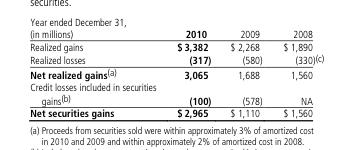table: (29, 28, 323, 118)
table column: (29, 28, 165, 118), (165, 28, 220, 118), (220, 28, 272, 118), (272, 28, 311, 118), (311, 28, 323, 118)
table column header: (29, 28, 323, 66)
table row: (29, 28, 323, 66), (29, 80, 323, 107), (29, 66, 323, 80), (29, 107, 323, 118)
table spanning cell: (272, 80, 323, 107)
